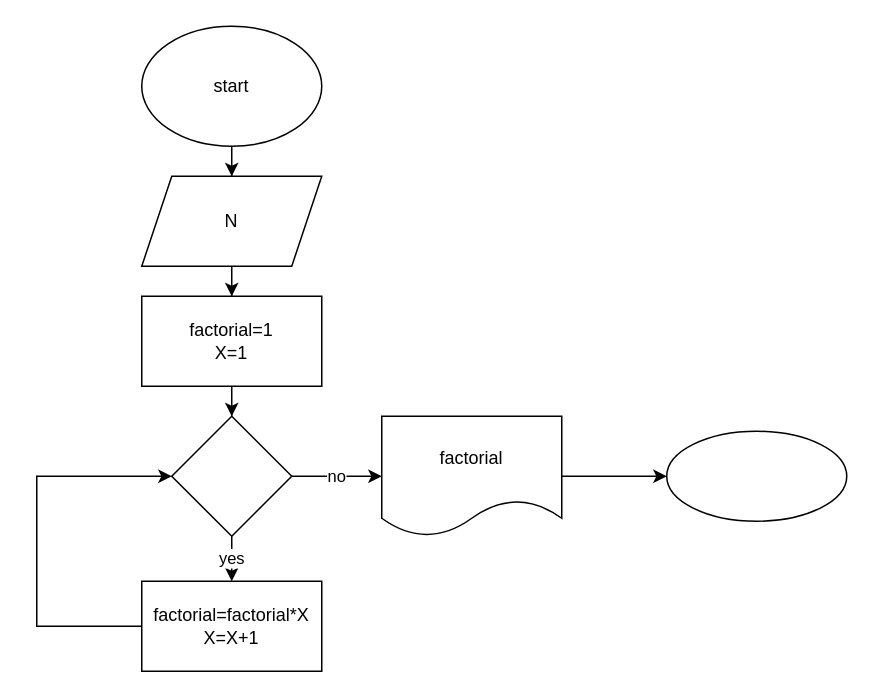
Some shapes in this 873 by 698 pixel diagram are drawn without their labels. The centre of each missing label's shape, as x and y in pixels:
"end" goes at point (756, 475).
"X<=N" goes at point (231, 475).
